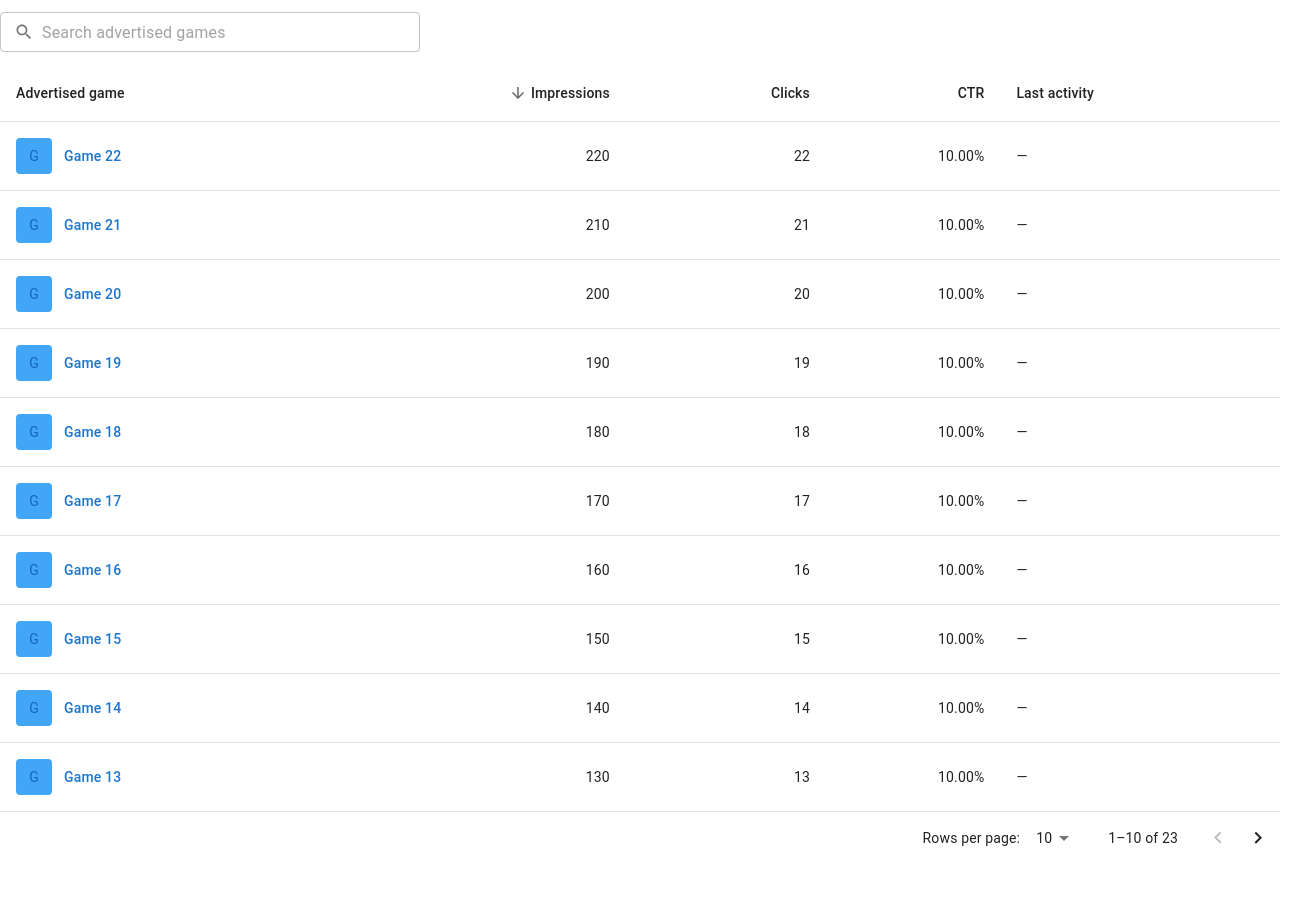
Test: games table › sorts by impressions descending by default, paginates and searches
The image size is (1292, 912).
Click the button named "Next page": (1258, 838) x1=1238 y1=818 x2=1278 y2=858
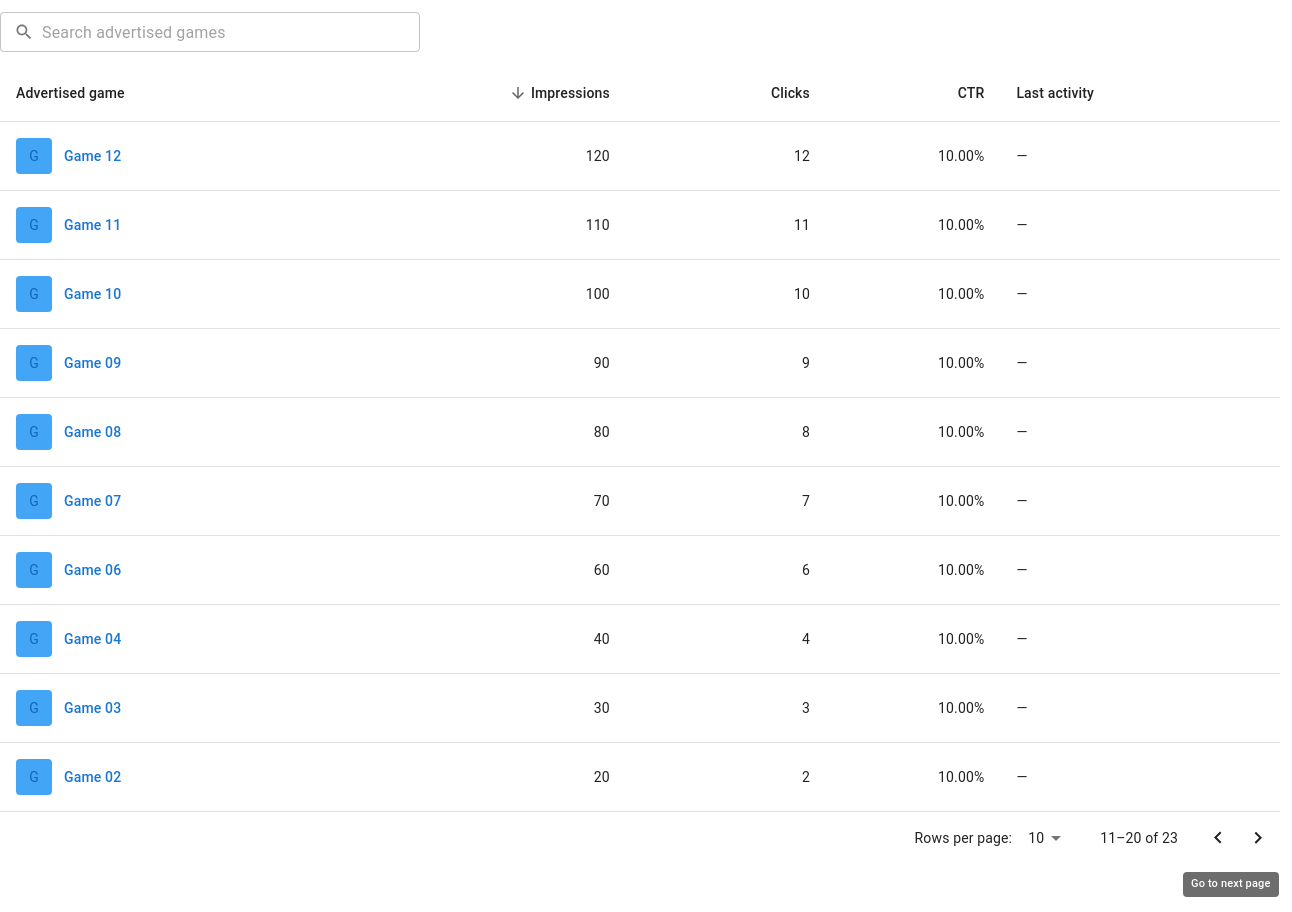
Result: the link "Game 12" is shown at x1=64 y1=146 x2=121 y2=166
In the field labelled "Search advertised games": (231, 32) x1=42 y1=12 x2=420 y2=52, type "game 07"
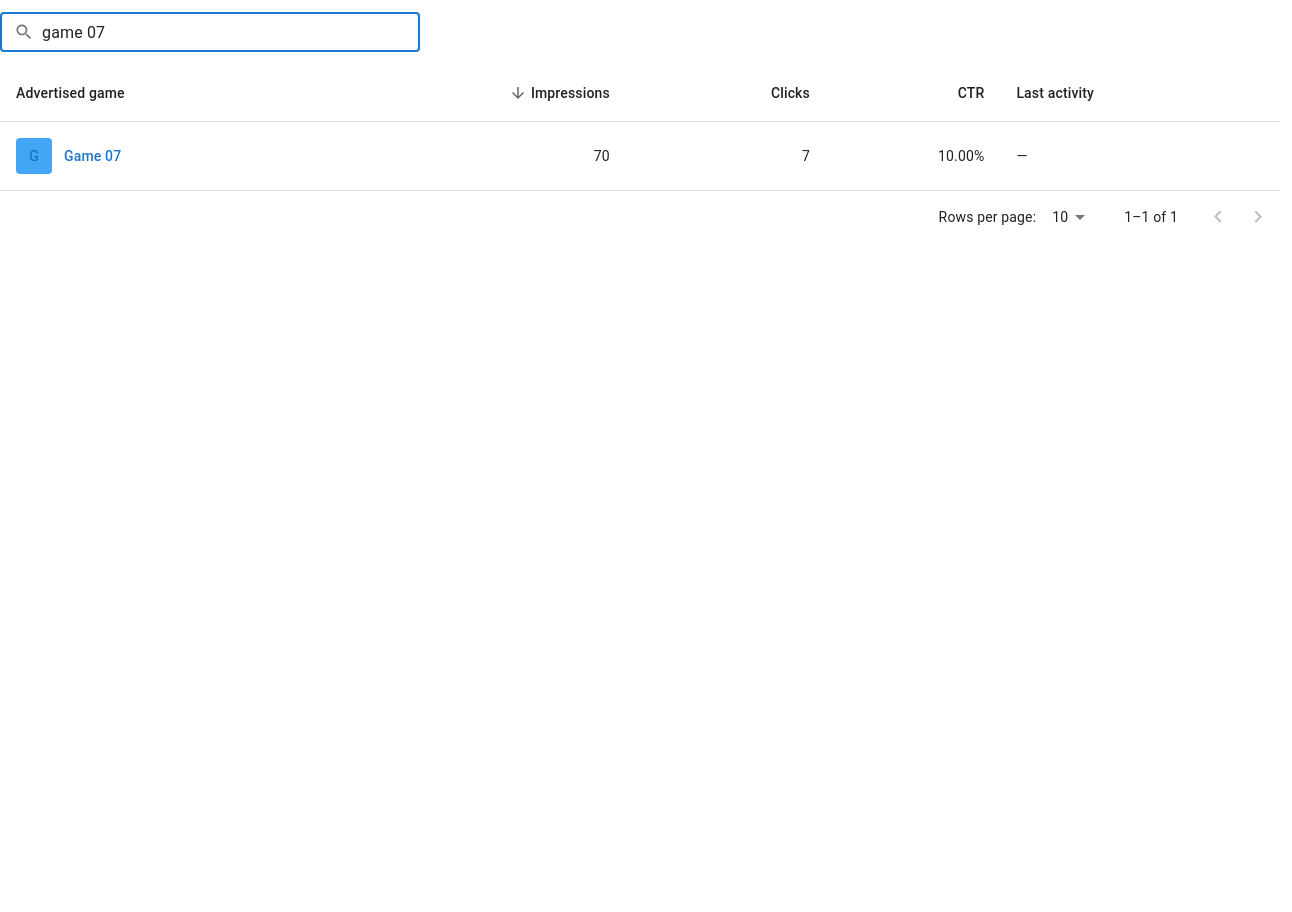
Replace the text in the field named "Search" with "zzzz": (231, 32) x1=42 y1=12 x2=420 y2=52
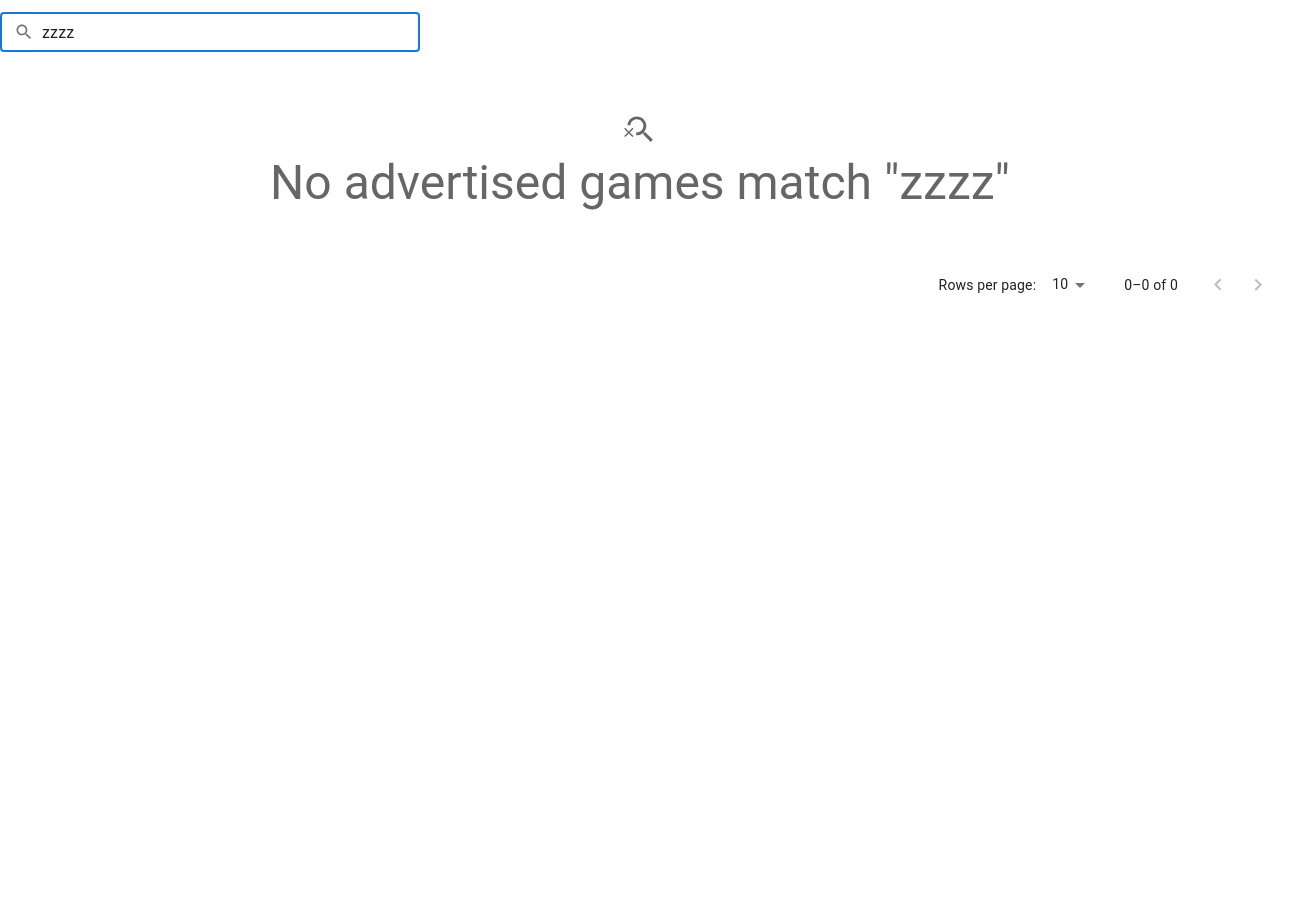
Result: the heading "No advertised games match \"zzzz\"" is shown at x1=270 y1=155 x2=1010 y2=211
